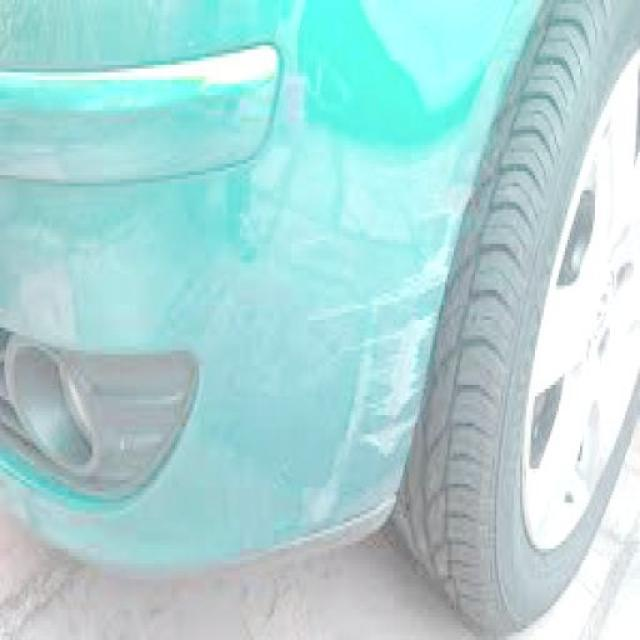car damage: (300, 155, 460, 516)
